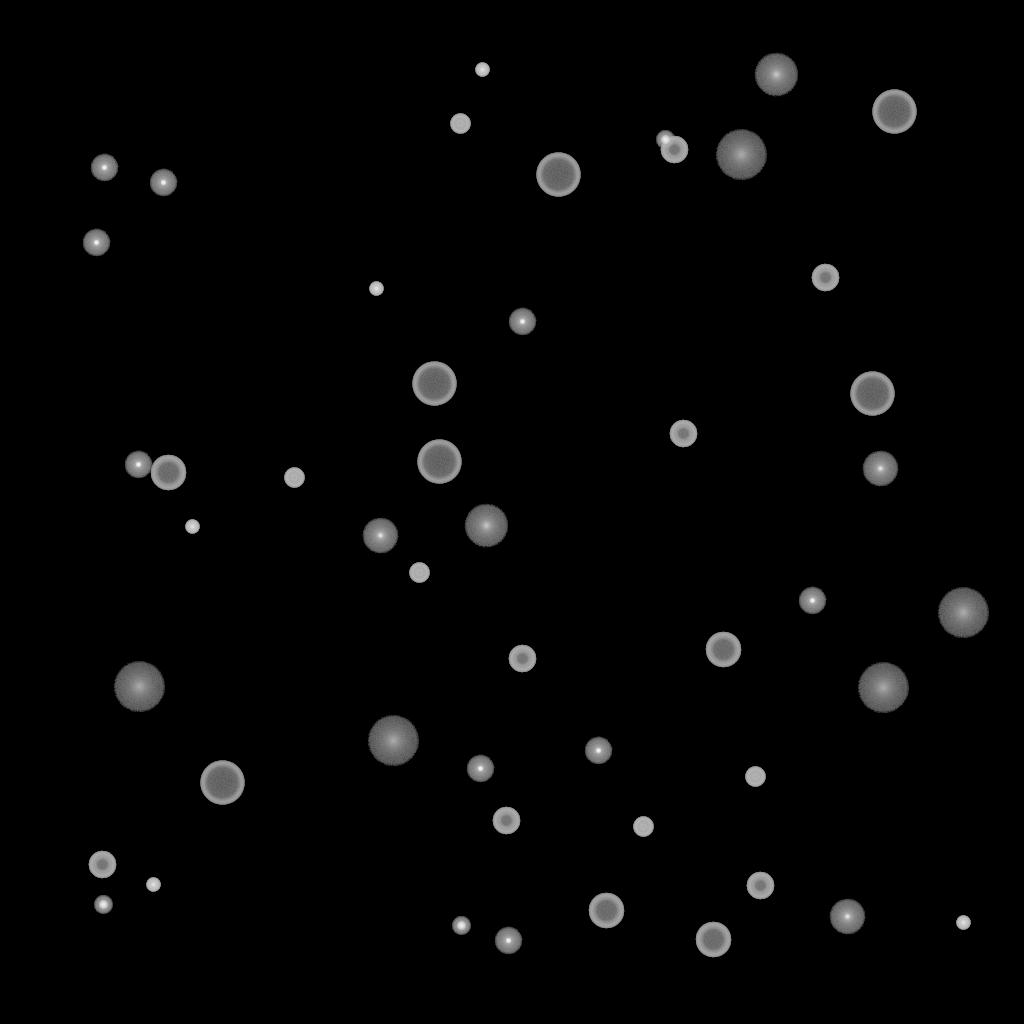depth:-10: (124, 451, 152, 479), (82, 229, 110, 257), (508, 308, 536, 336), (90, 154, 118, 182), (149, 169, 177, 197), (798, 587, 826, 615), (494, 927, 522, 955), (584, 737, 612, 765), (466, 755, 494, 783)
depth:-20: (656, 131, 674, 149), (94, 896, 112, 914), (452, 917, 470, 935)
depth:-30: (369, 282, 383, 296), (956, 916, 970, 930), (185, 520, 199, 534), (475, 63, 489, 77), (146, 878, 160, 892)
depth:-40: (284, 468, 304, 488), (745, 767, 765, 787), (409, 563, 429, 583), (450, 114, 470, 134), (633, 817, 653, 837)
depth:-50: (492, 807, 520, 835), (811, 264, 839, 292), (746, 872, 774, 900), (669, 420, 697, 448), (88, 851, 116, 879), (508, 645, 536, 673), (660, 136, 688, 164)
depth:-60: (588, 893, 624, 929), (695, 922, 731, 958), (150, 455, 186, 491), (705, 632, 741, 668)
depth:-70: (412, 362, 456, 406), (536, 153, 580, 197), (850, 372, 894, 416), (200, 761, 244, 805), (417, 440, 461, 484), (872, 90, 916, 134)
depth:0: (362, 518, 398, 554), (829, 899, 865, 935), (862, 451, 898, 487)
depth:10: (754, 53, 798, 97), (464, 504, 508, 548)
depth:20: (857, 663, 909, 713), (367, 716, 419, 766), (715, 130, 767, 180), (113, 662, 165, 712), (937, 588, 989, 638)
